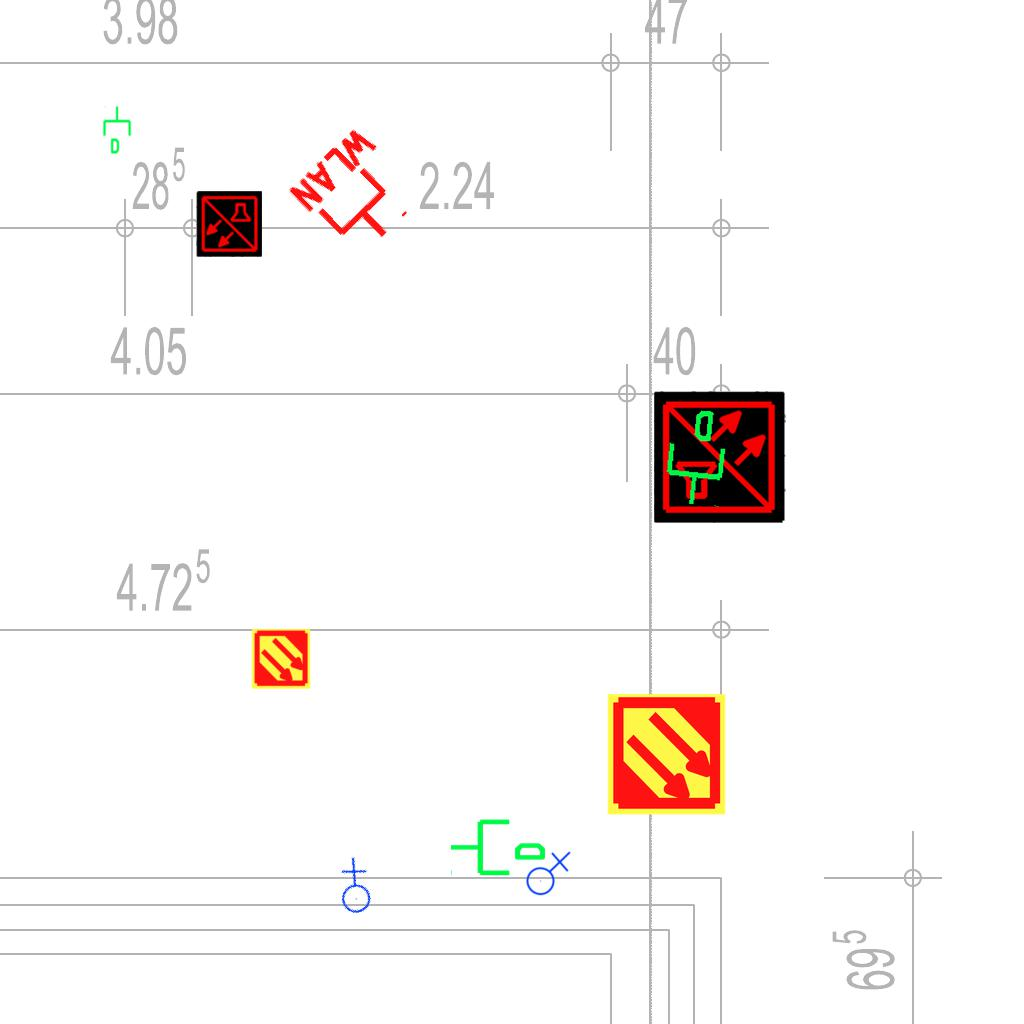ASR_Ansaugrauchmelder: (604, 692, 729, 817), (250, 628, 312, 690)
Datenanschluss_einfach: (654, 403, 735, 511), (448, 811, 548, 880), (101, 105, 135, 155)
Elektroanschluss_allgemein_230V_Geraeteanschlussdose_230V: (319, 854, 388, 923), (522, 849, 571, 896)
OKW_Multisensormelder_(Kombination_optischer_Rauch-Kahlenmonoxid_Waerme-Melder): (654, 391, 786, 523), (196, 191, 262, 257)
WLAN: (283, 120, 432, 268)
